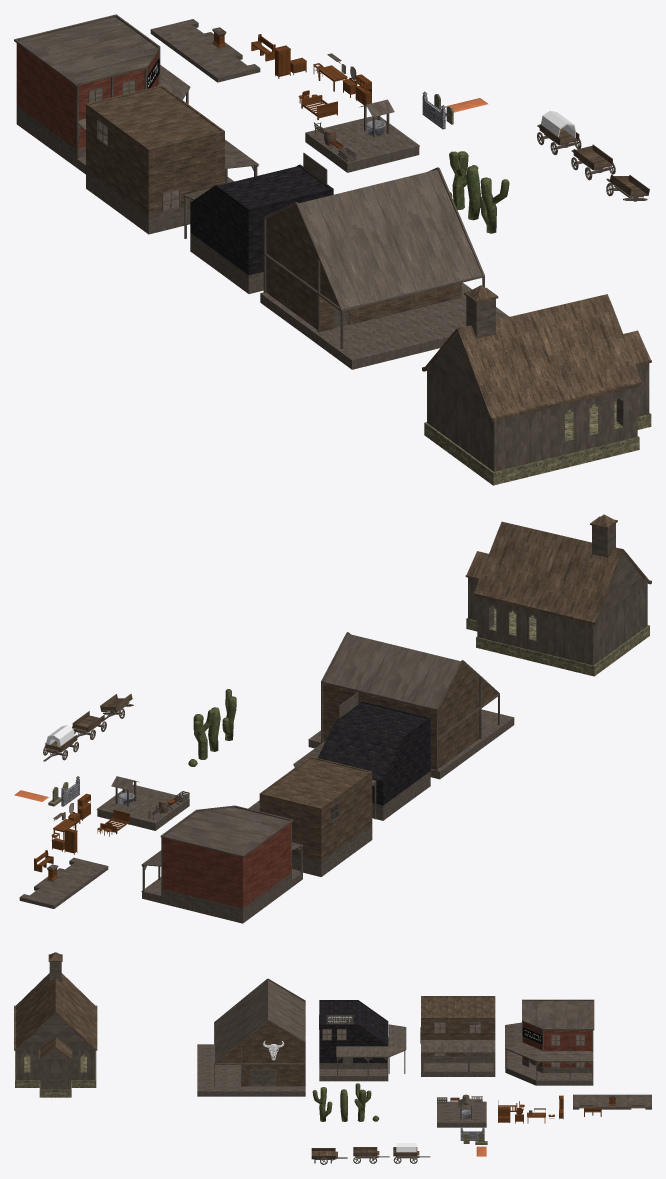
Rendered from village_r32.glb.
3 renders of one model, top to bottom at view 1: azimuth 30°, elevation 25°; view 2: azimuth 150°, elevation 25°; view 3: azimuth 270°, elevation 25°, orthographic. The views are drawn at different scales.
Visible parts, largest first — view 1: Cube.166, Cube.149, Cube.146, Cube.160, Cube.148, Cube.108, Cube.122, Cube.060, Cube.186, Cube.150, Cube.137, Cube.154 (+1 smaller); view 2: Cube.166, Cube.149, Cube.146, Cube.160, Cube.122, Cube.108, Cube.060, Cube.186, Cube.127, Cube.150, Cube.148, Cube.137; view 3: Cube.166, Cube.149, Cube.146, Cube.160, Cube.108, Cube.148, Cube.122, Cube.127, Cube.109, Cube.157, Cube.060, Cube.186 (+4 smaller).
Boxes of the visible parts, <box> form: Cube.166: <box>422,285,651,485</box>; Cube.149: <box>266,169,481,331</box>; Cube.146: <box>86,85,224,224</box>; Cube.160: <box>190,164,333,284</box>; Cube.148: <box>260,282,509,369</box>; Cube.108: <box>14,14,188,159</box>; Cube.122: <box>16,43,158,157</box>; Cube.060: <box>305,116,419,172</box>; Cube.186: <box>150,19,260,82</box>; Cube.150: <box>263,167,484,349</box>; Cube.137: <box>86,177,233,234</box>; Cube.154: <box>190,242,263,293</box>; Cube.166: <box>465,514,651,676</box>; Cube.149: <box>323,634,497,769</box>; Cube.146: <box>259,756,372,869</box>; Cube.160: <box>318,701,430,812</box>; Cube.122: <box>162,823,290,915</box>; Cube.108: <box>142,805,302,896</box>; Cube.060: <box>96,784,189,830</box>; Cube.186: <box>19,857,108,908</box>; Cube.127: <box>141,869,302,923</box>; Cube.150: <box>321,632,499,770</box>; Cube.148: <box>308,709,514,779</box>; Cube.137: <box>292,832,372,876</box>; Cube.166: <box>14,952,97,1097</box>; Cube.149: <box>215,980,304,1086</box>; Cube.146: <box>421,996,495,1062</box>; Cube.160: <box>319,1000,388,1068</box>; Cube.108: <box>506,999,594,1079</box>; Cube.148: <box>197,1044,305,1096</box>; Cube.122: <box>523,1022,591,1072</box>; Cube.127: <box>505,1048,593,1085</box>; Cube.109: <box>505,1022,593,1062</box>; Cube.157: <box>336,1024,406,1057</box>; Cube.060: <box>437,1101,486,1127</box>; Cube.186: <box>573,1094,651,1109</box>.
Size of the model in its own units: 23.48 by 9.35 by 53.38.
15 materials, 13 textured.
